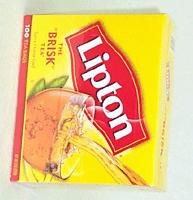grozi_83: (7, 11, 175, 192)
